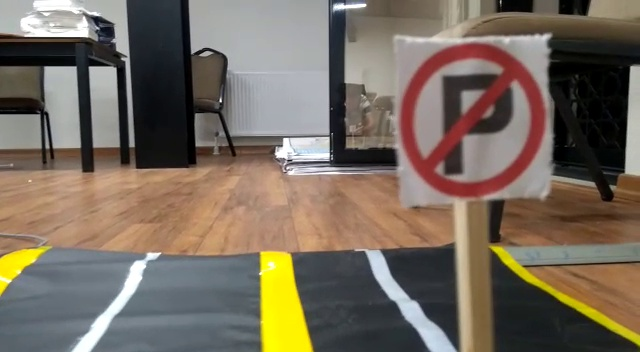park_yapilmaz: (396, 41, 544, 197)
